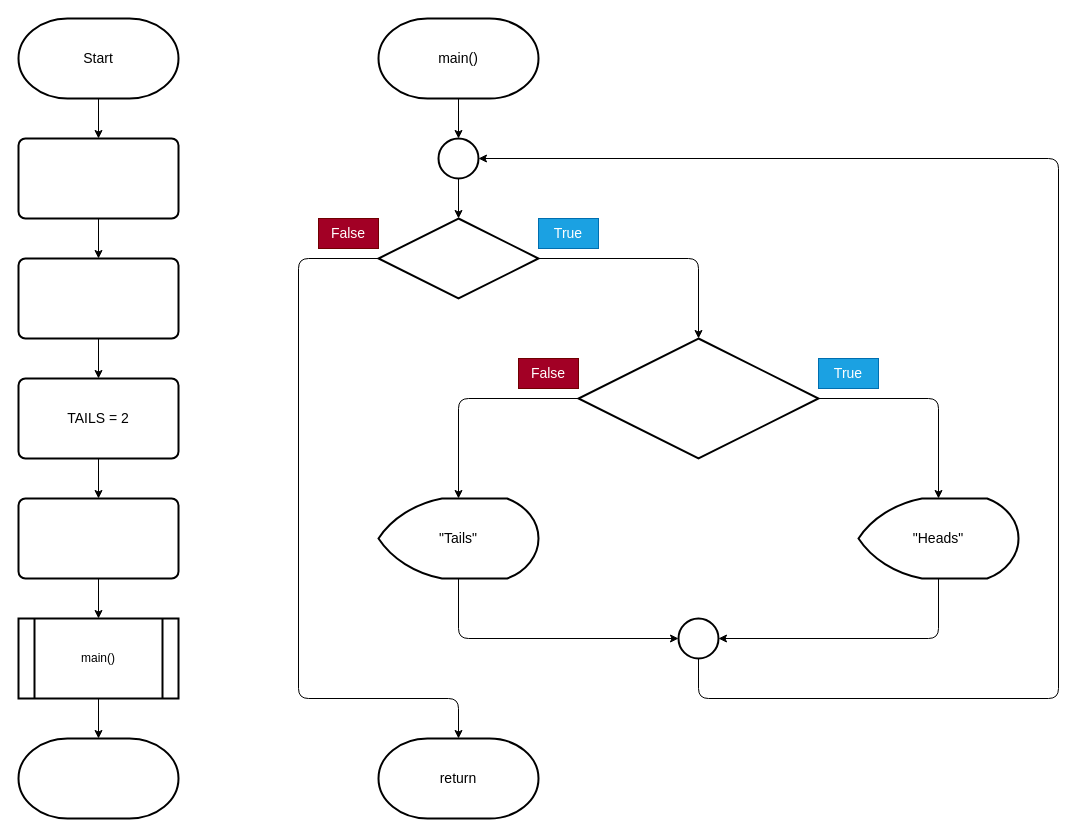
Some shapes in this 1084 by 836 pixel diagram are drawn without their labels. The shapes that lost their labels are listed below. From the top down, each one's centre as x and y in pixels, then its label:
At (98,178): "import random".
At (458,258): "toss in range (TOSSES)".
At (98,298): "HEADS = 1".
At (698,398): "random.randint (HEADS, TAILS) == HEADS".
At (98,538): "TOSSES = 10".
At (98,778): "End".
